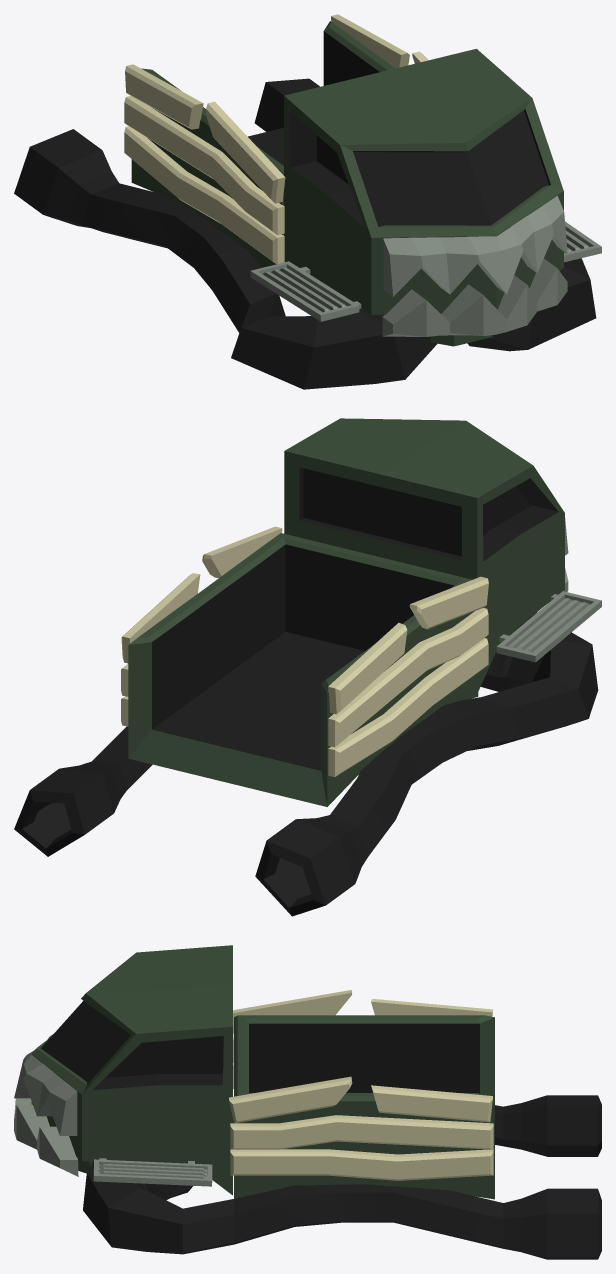
Rendered from Space_truck_001.fbx.
3 views of the same model, one above another, from view 1: azimuth 30°, elevation 25°; view 2: azimuth 150°, elevation 25°; view 3: azimuth 270°, elevation 25° (orthographic). The views are drawn at different scales.
Parts seen in each view (by area): view 1: Space_truck_001; view 2: Space_truck_001; view 3: Space_truck_001.
Boxes of the visible parts, x1,y1,x2,y2 form: Space_truck_001: [14, 14, 601, 389]; Space_truck_001: [14, 418, 601, 916]; Space_truck_001: [14, 945, 601, 1259].
Bounding box in the file's own units: 1376 × 948 × 2271.
1 material, 1 textured.
